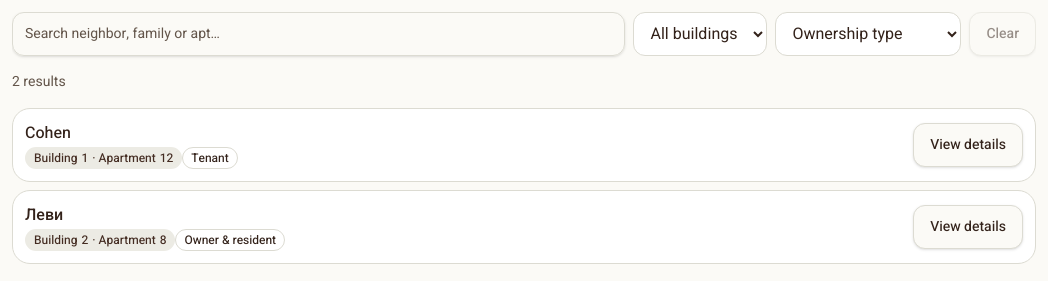
community building blocks › filters locally and resets query, building and status
In the field: (319, 34) [12,12,626,56], type "Леви"
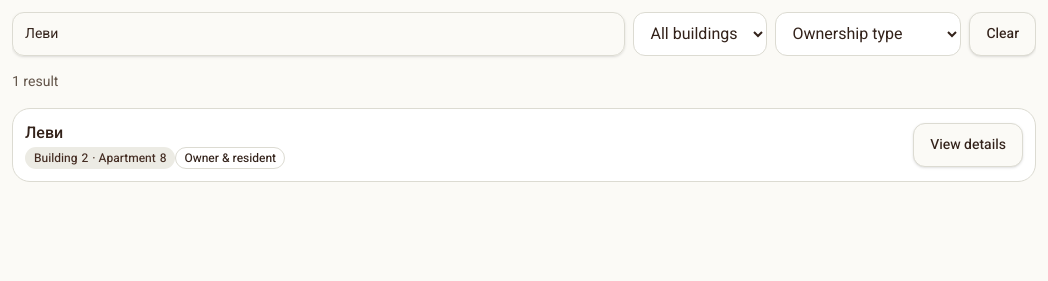
Expected: the text "Леви" is shown, [25,121,63,145]
Expected: the text "Cohen" is gone
Click the button "Clear": (1003, 34) [970,12,1036,56]
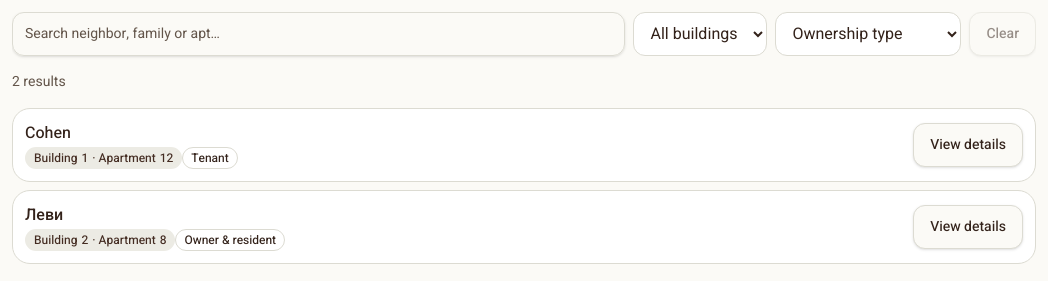
Expected: the text "Cohen" is shown, [25,121,71,145]
